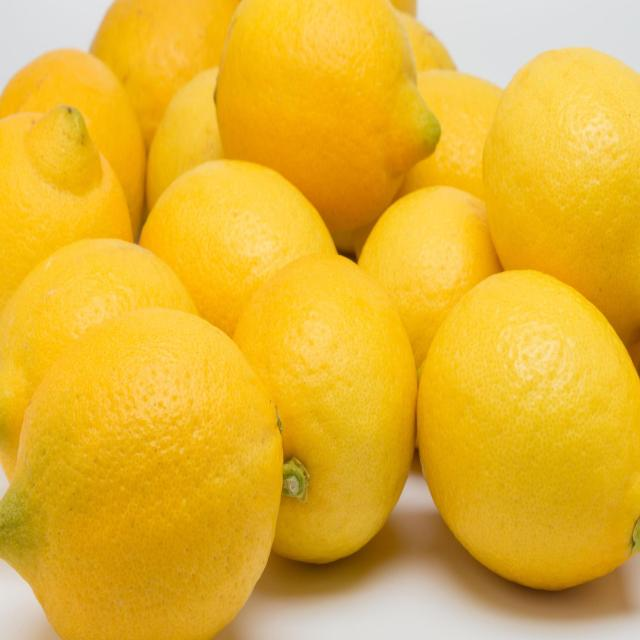lemon: (1, 305, 308, 640), (407, 263, 640, 602)
